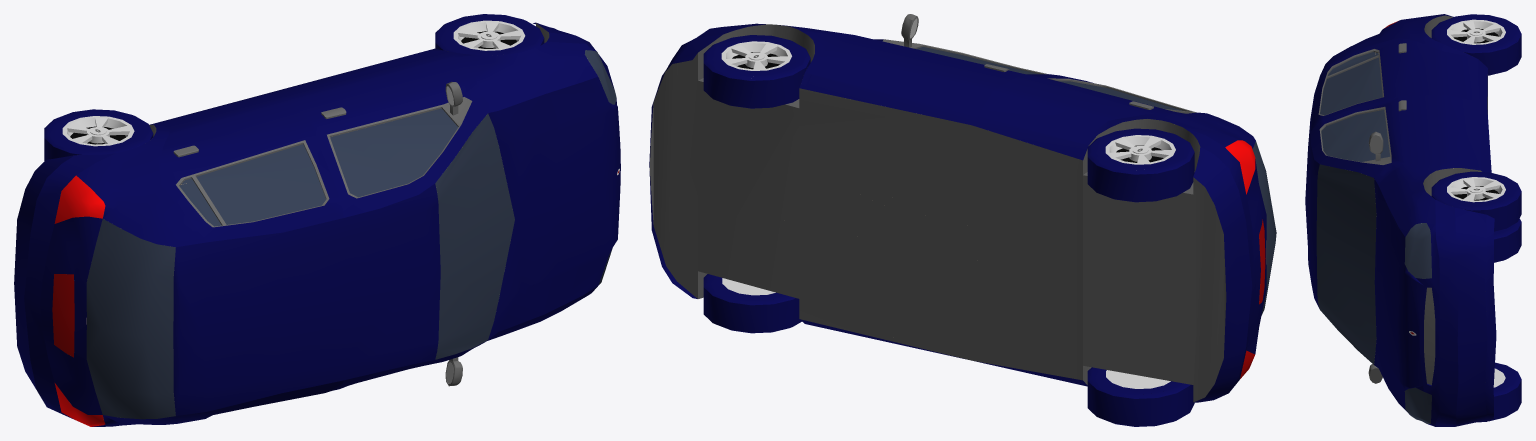
3 renders of one model, left to right at view 1: azimuth 30°, elevation 25°; view 2: azimuth 150°, elevation 25°; view 3: azimuth 270°, elevation 25°, orthographic. The views are drawn at different scales.
Parts seen in each view (by area): view 1: Object_16, Object_4, Object_6, Object_5, Object_9, cutwheel_RL_7_0, cutwheel_FL_7_0, cutwheel_RL_16_0, cutwheel_FL_16_0; view 2: Object_12, Object_16, Object_4, cutwheel_RR_16_0, cutwheel_RL_16_0, cutwheel_FL_16_0, cutwheel_FR_16_0, Object_6, cutwheel_RL_7_0, cutwheel_FL_7_0, Object_5, cutwheel_RR_7_0; view 3: Object_16, Object_4, Object_6, cutwheel_FL_7_0, cutwheel_RL_7_0, Object_12, cutwheel_FL_16_0, cutwheel_RL_16_0, cutwheel_FR_16_0, cutwheel_RR_16_0.
Boxes of the visible parts, x1,y1,x2,y2 form: Object_16: (14,19,620,426); Object_4: (86,50,616,419); Object_6: (103,76,598,419); Object_5: (54,175,105,426); Object_9: (52,170,619,357); cutwheel_RL_7_0: (62,116,134,146); cutwheel_FL_7_0: (453,20,525,50); cutwheel_RL_16_0: (48,109,131,134); cutwheel_FL_16_0: (439,14,522,39); Object_12: (649,24,1226,402); Object_16: (649,23,1266,426); Object_4: (916,47,1276,315); cutwheel_RR_16_0: (1092,369,1172,426); cutwheel_RL_16_0: (1092,145,1173,202); cutwheel_FL_16_0: (708,51,789,108); cutwheel_FR_16_0: (708,275,787,333); Object_6: (882,14,1196,113); cutwheel_RL_7_0: (1105,135,1175,164); cutwheel_FL_7_0: (721,41,791,70); Object_5: (1225,140,1255,378); cutwheel_RR_7_0: (1106,370,1170,388); Object_16: (1305,14,1517,426); Object_4: (1316,52,1431,423); Object_6: (1318,43,1435,385); cutwheel_FL_7_0: (1447,177,1505,202); cutwheel_RL_7_0: (1447,19,1505,44); Object_12: (1423,15,1487,195); cutwheel_FL_16_0: (1485,172,1521,221); cutwheel_RL_16_0: (1486,15,1521,64); cutwheel_FR_16_0: (1493,362,1521,409); cutwheel_RR_16_0: (1493,218,1521,252).
Size of what is drawn, in the model's own units: 4.09 by 2 by 1.56.
